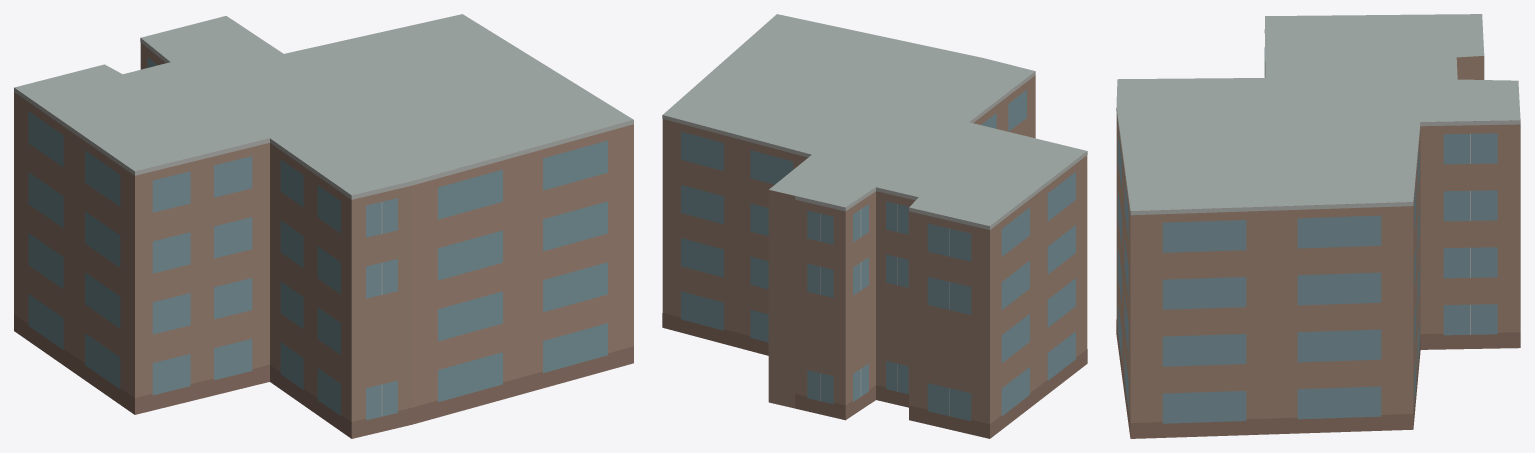
File: survey-upis-32499879.glb
The picture shows the model from 3 angles, left to right: view 1: azimuth 30°, elevation 25°; view 2: azimuth 150°, elevation 25°; view 3: azimuth 270°, elevation 25°; orthographic projection. The views are drawn at different scales.
Parts seen in each view (by area): view 1: survey-upis-32499879.tmp; view 2: survey-upis-32499879.tmp; view 3: survey-upis-32499879.tmp.
Boxes of the visible parts, x1=… form: survey-upis-32499879.tmp: x1=14, y1=14, x2=633, y2=438; survey-upis-32499879.tmp: x1=662, y1=14, x2=1087, y2=438; survey-upis-32499879.tmp: x1=1116, y1=14, x2=1520, y2=438.
Size of the model in its own units: 24.79 by 13.35 by 21.47.
